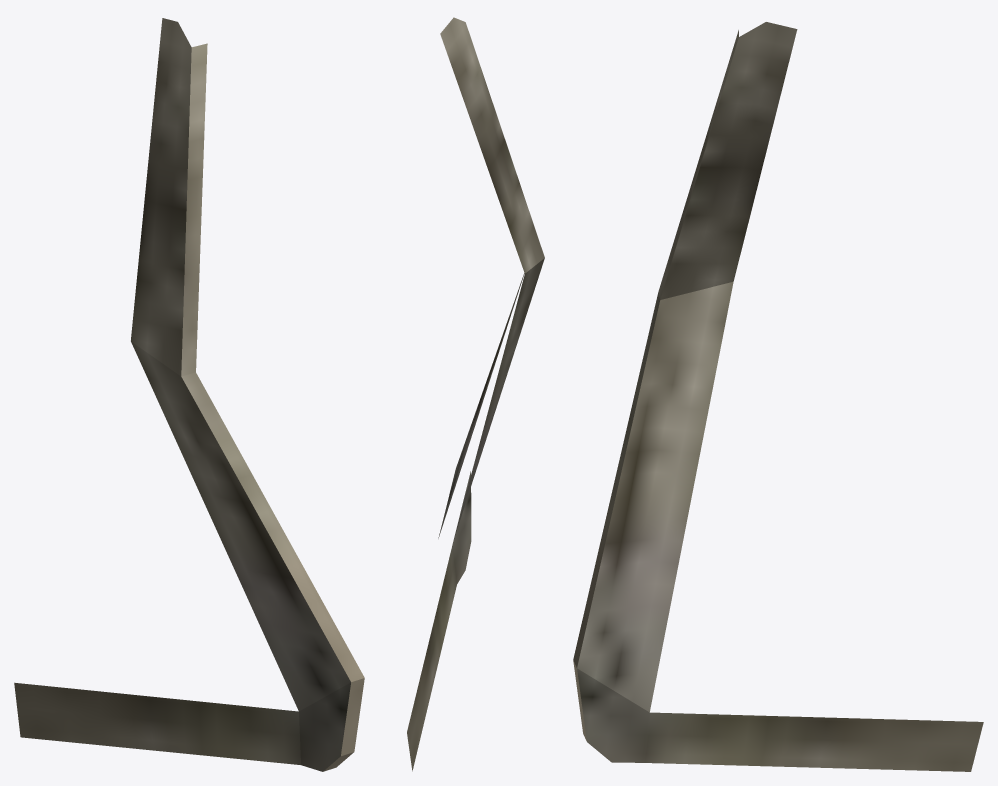
The model's file is prop_german_panzer_part_2.glb.
The picture shows the model from 3 angles, left to right: view 1: azimuth 30°, elevation 25°; view 2: azimuth 150°, elevation 25°; view 3: azimuth 270°, elevation 25°; orthographic projection. The views are drawn at different scales.
Bounding box in the file's own units: 5.23 × 24.8 × 11.88.
1 material, 1 textured.
